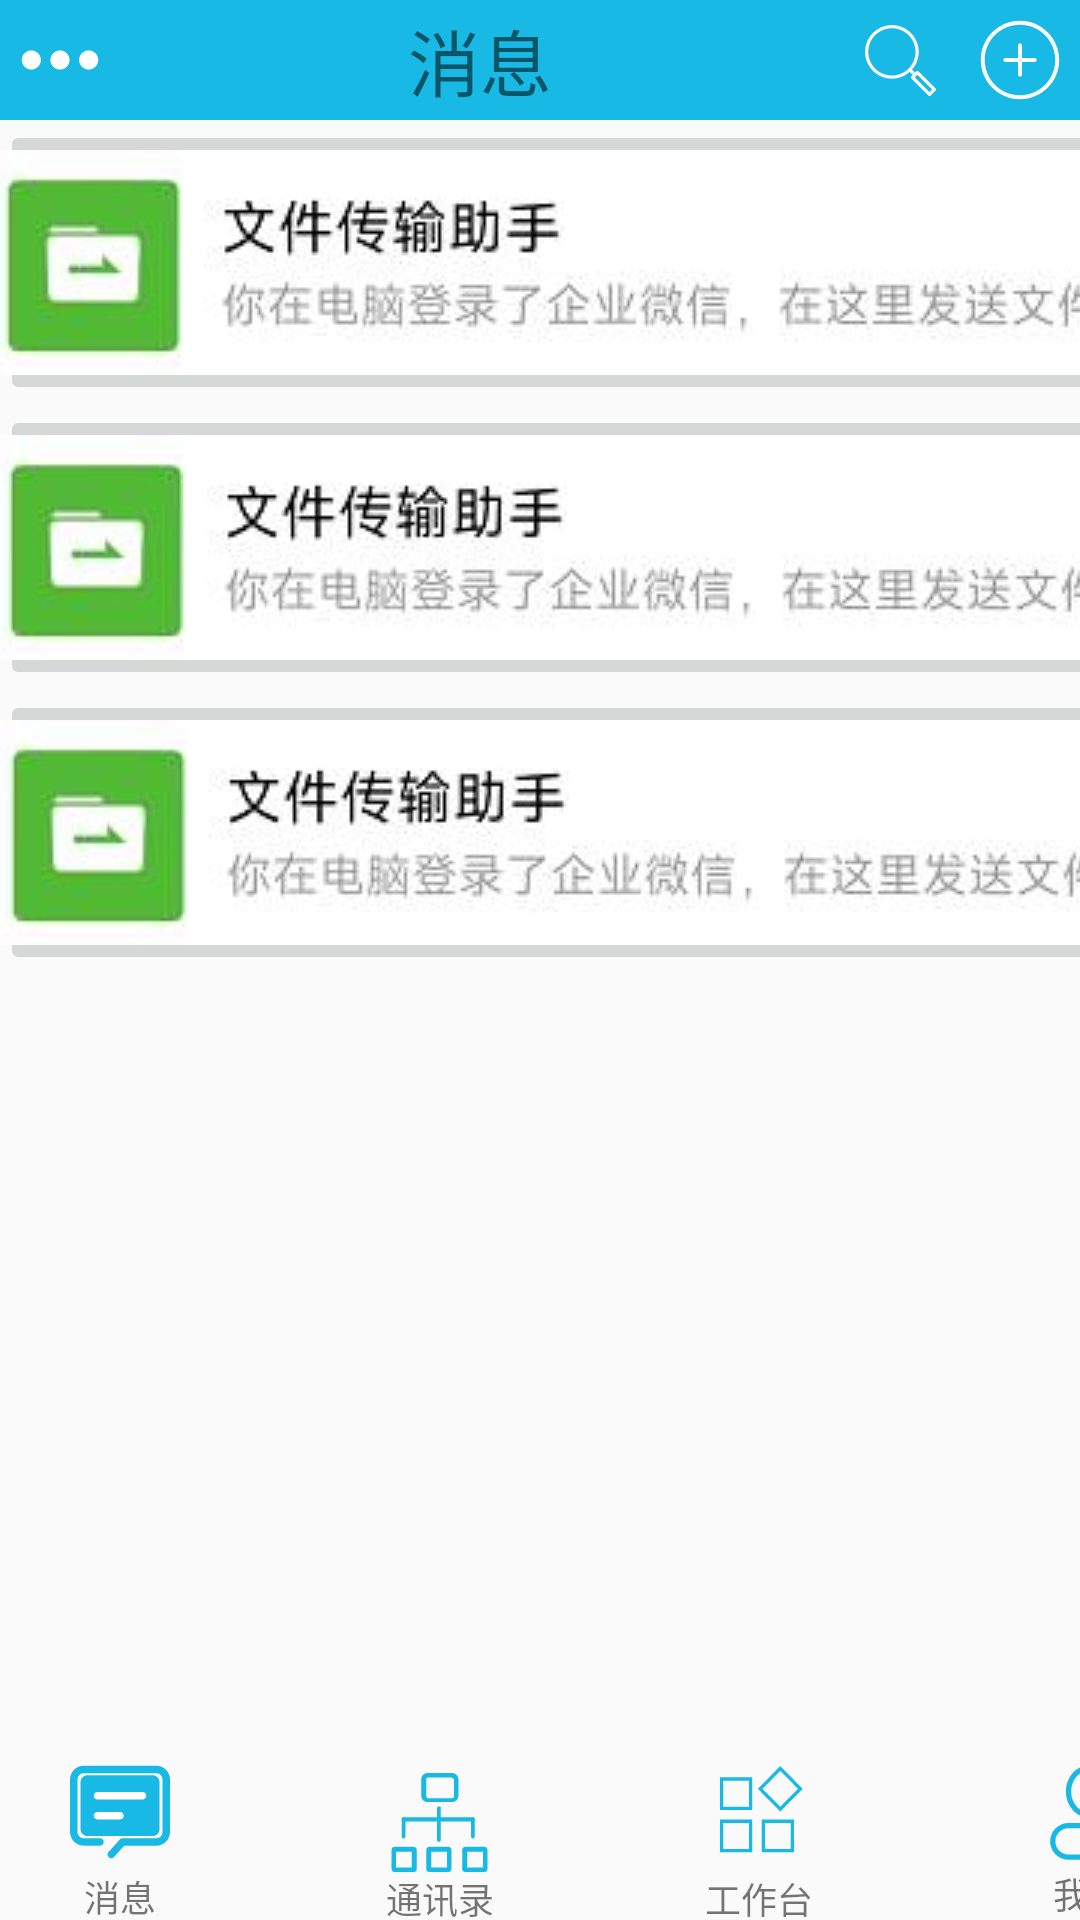

Named icons in this screenshot (1080 x 1920) and their bounding boxes, bbox(x1, y1, x2, y2):
more: bbox(21, 50, 99, 70)
search: bbox(865, 25, 936, 96)
tiny plus: bbox(980, 20, 1060, 100)
